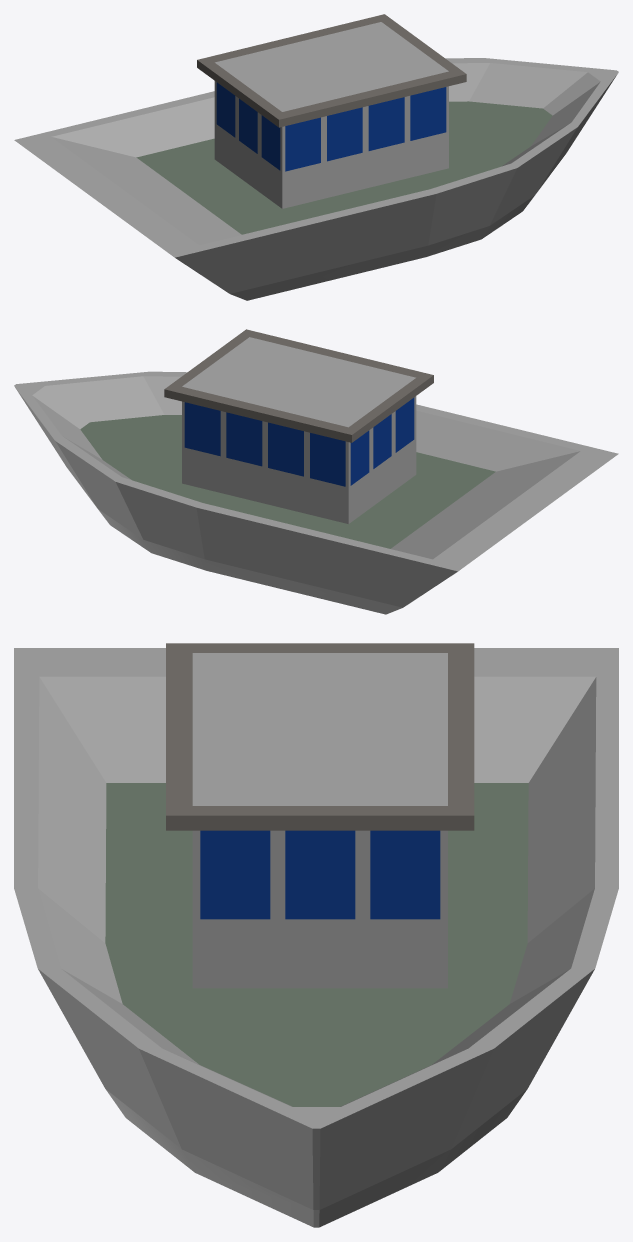
The model's file is boat2.FBX.
3 views of the same model, one above another, from view 1: azimuth 30°, elevation 25°; view 2: azimuth 150°, elevation 25°; view 3: azimuth 270°, elevation 25° (orthographic). The views are drawn at different scales.
Parts seen in each view (by area): view 1: boat2; view 2: boat2; view 3: boat2.
Boxes of the visible parts, box(x1,y1,x2,y2) form: boat2: box(14, 14, 618, 300); boat2: box(14, 329, 618, 614); boat2: box(14, 643, 618, 1227).
Bounding box in the file's own units: 8.02 × 2.32 × 4.26.
